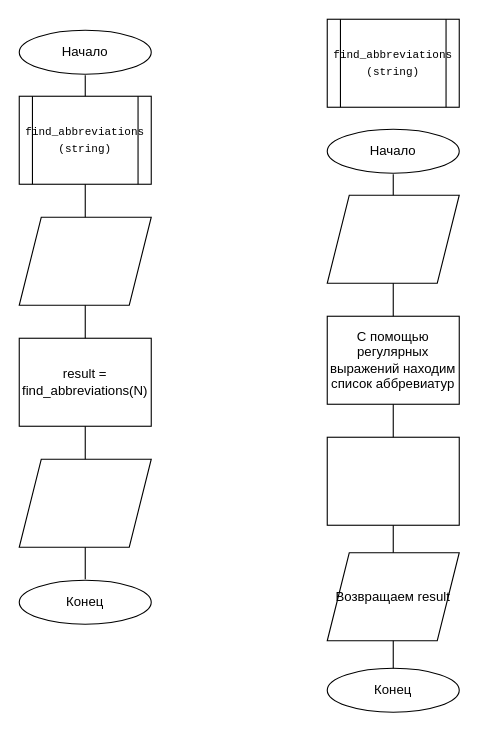
Some shapes in this 479 by 732 pixel diagram are drawn without their labels. The centre of each missing label's shape, as x and y in pixels:
"Вводим строку String" goes at point 84,260.
"Выводим result" goes at point 84,502.
"Получаем строку string" goes at point 392,238.
"Соединяем список в строку" goes at point 392,480.
